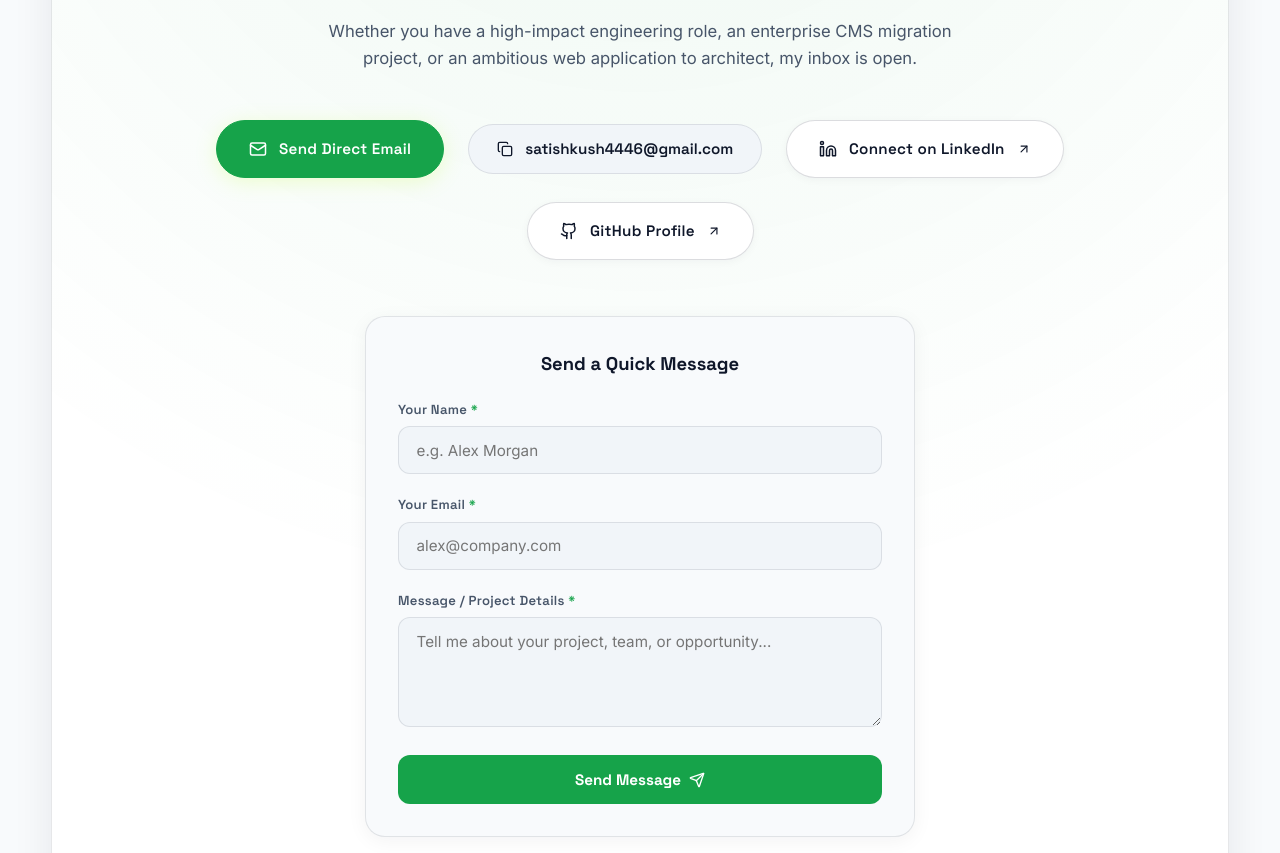
Test: Contact Section & Form › validates invalid email format
(page scrolled)
Type "Alex Morgan" into the field labelled "Your Name *". click: (640, 450)
box: [398,426,882,474]
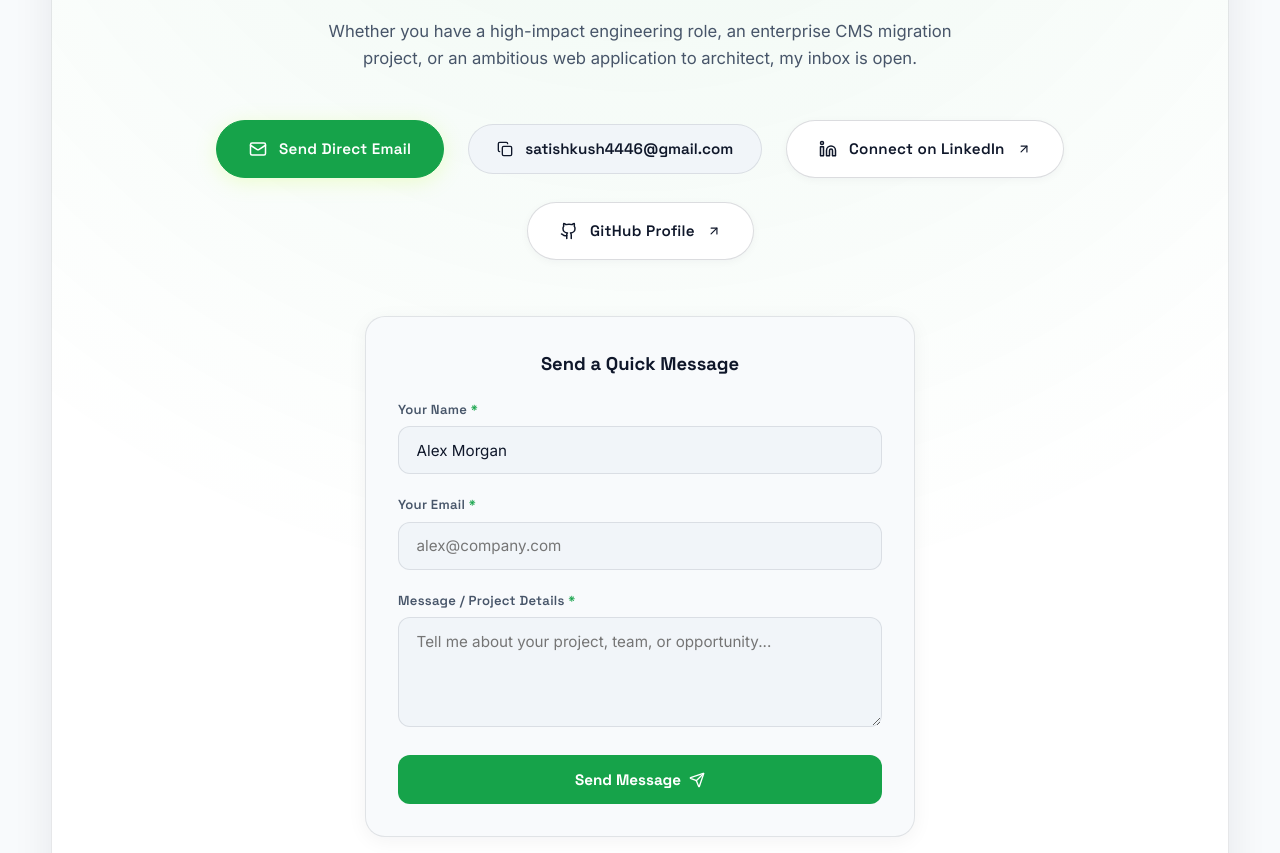
Type "invalid-email" into the field labelled "Your Email *". click: (640, 546)
box: [398,522,882,570]
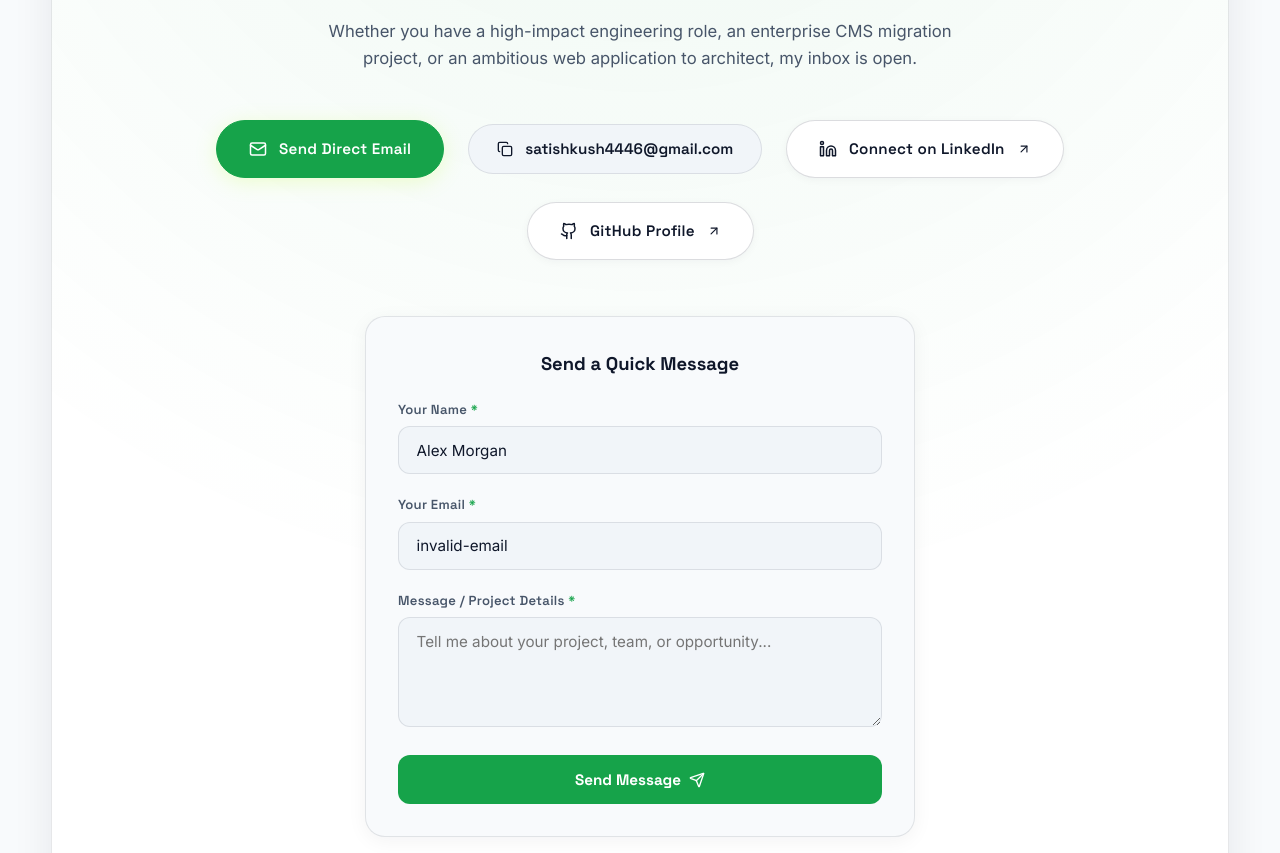
Click the button "Send Message". click: click(640, 780)
box: [398,755,882,804]
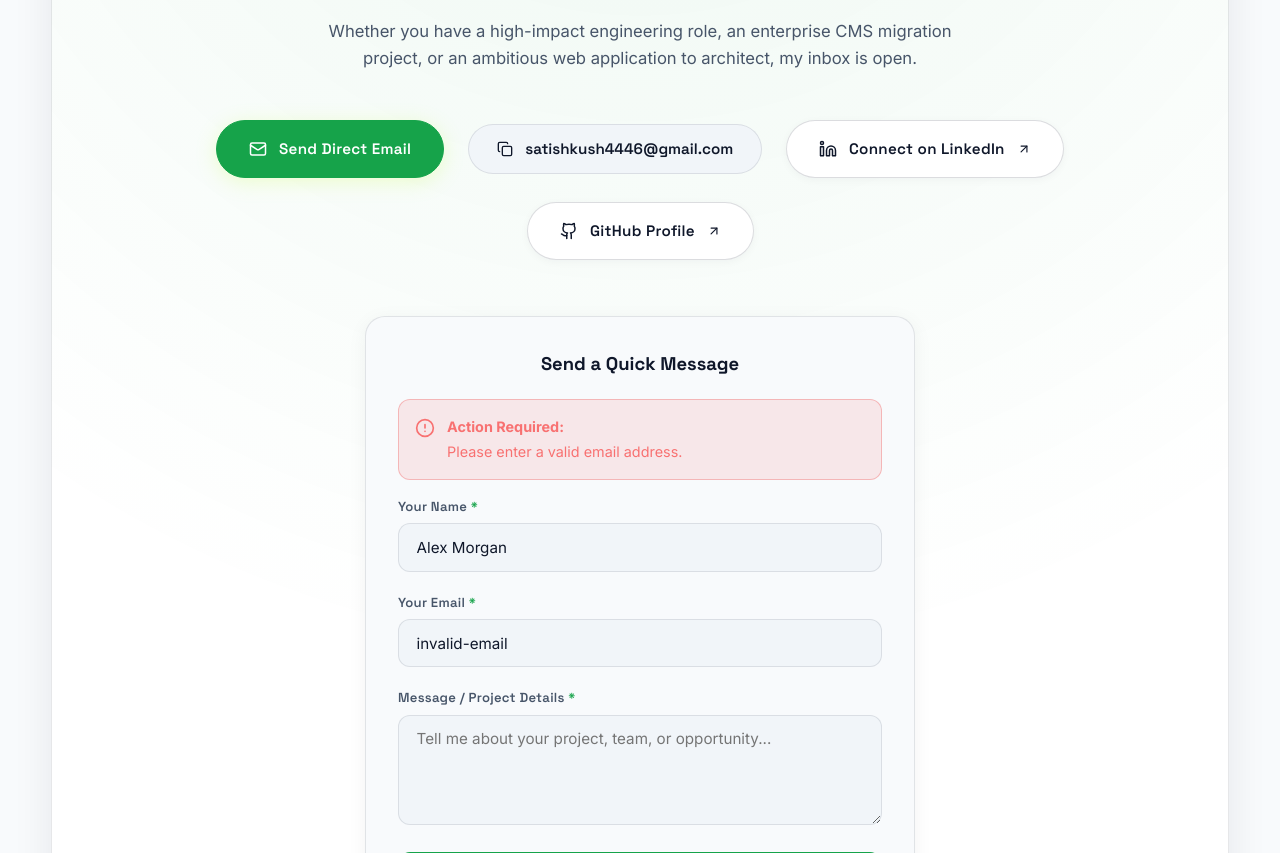
Result: the text "Please enter a valid email address." is shown at [447,441,682,463]
